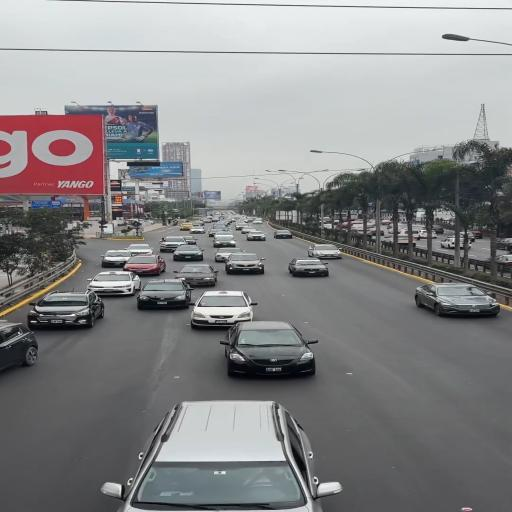auto: (99, 400, 338, 510), (220, 322, 318, 376), (26, 289, 104, 328), (414, 282, 499, 317), (189, 290, 256, 328), (0, 322, 39, 375), (135, 278, 195, 310), (87, 271, 142, 296), (173, 264, 220, 287), (122, 254, 166, 276), (222, 252, 266, 274), (288, 257, 332, 278), (171, 244, 207, 261), (100, 250, 134, 268), (307, 243, 343, 259), (214, 247, 246, 263), (158, 236, 190, 252), (439, 236, 472, 249), (124, 243, 154, 256), (212, 234, 236, 247), (246, 230, 268, 241), (273, 230, 293, 239), (189, 226, 206, 234)
